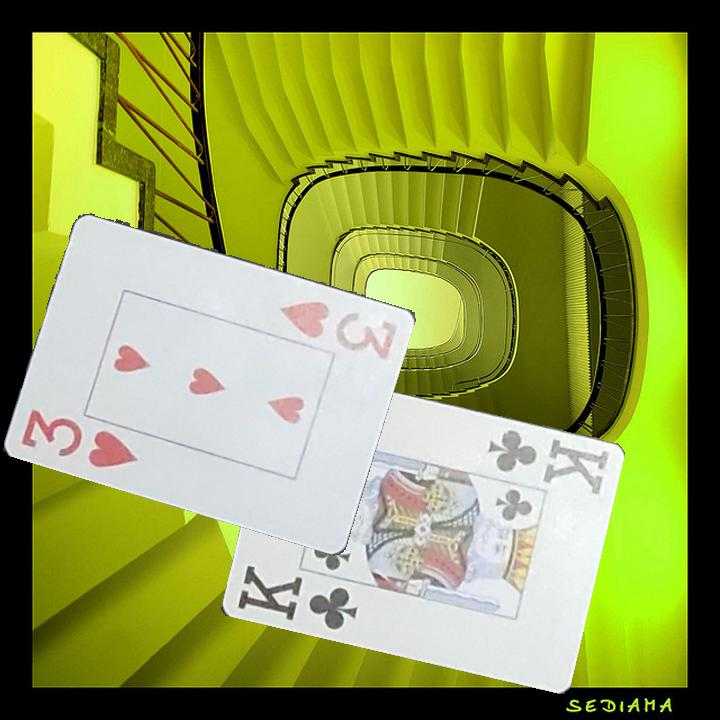3h: (277, 297, 401, 363), (18, 405, 142, 471)
Kc: (233, 562, 360, 634), (484, 426, 611, 498)
